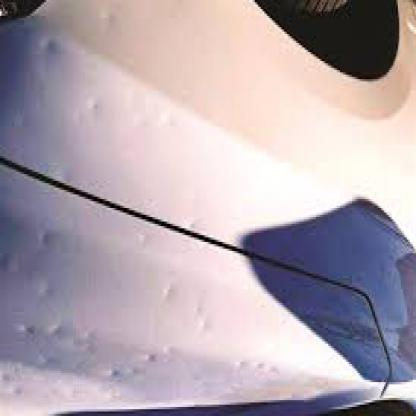dent: (6, 316, 284, 402), (35, 30, 61, 60)
